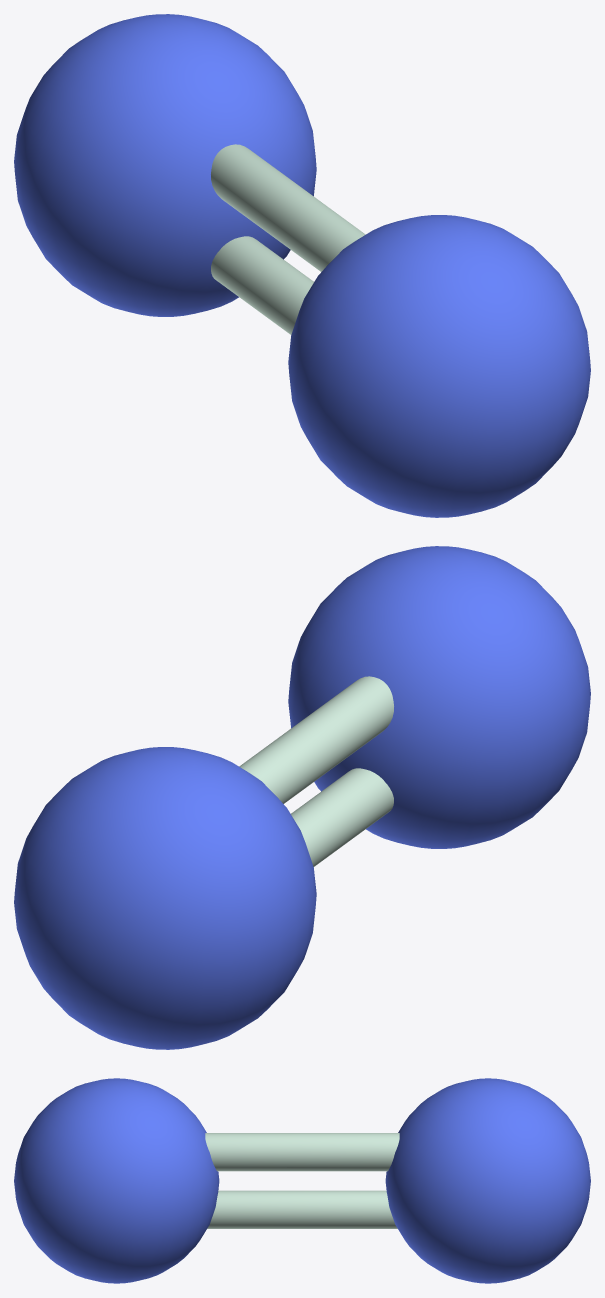
Rendered from moleculeModel1.glb.
3 renders of one model, top to bottom at view 1: azimuth 30°, elevation 25°; view 2: azimuth 150°, elevation 25°; view 3: azimuth 270°, elevation 25°, orthographic. The views are drawn at different scales.
Parts seen in each view (by area): view 1: Sphere.001, Sphere, Cylinder, Cylinder.001; view 2: Sphere, Sphere.001, Cylinder, Cylinder.001; view 3: Sphere.001, Sphere, Cylinder, Cylinder.001.
Part boxes in pixels (x1,y1,x2,y2): Sphere.001: (288,215,590,517); Sphere: (14,14,316,316); Cylinder: (211,144,365,271); Cylinder.001: (211,236,313,334); Sphere: (14,747,316,1049); Sphere.001: (288,546,590,848); Cylinder: (239,676,393,803); Cylinder.001: (291,768,393,866); Sphere.001: (14,1078,219,1283); Sphere: (385,1078,590,1283); Cylinder: (205,1133,399,1171); Cylinder.001: (207,1190,397,1228).
Bounding box in the file's own units: 4.13 × 4.13 × 11.61.
